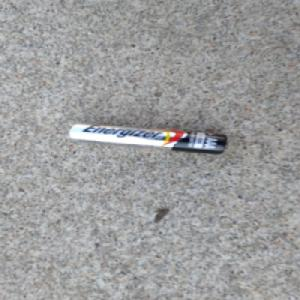Battery: (64, 122, 230, 155)
